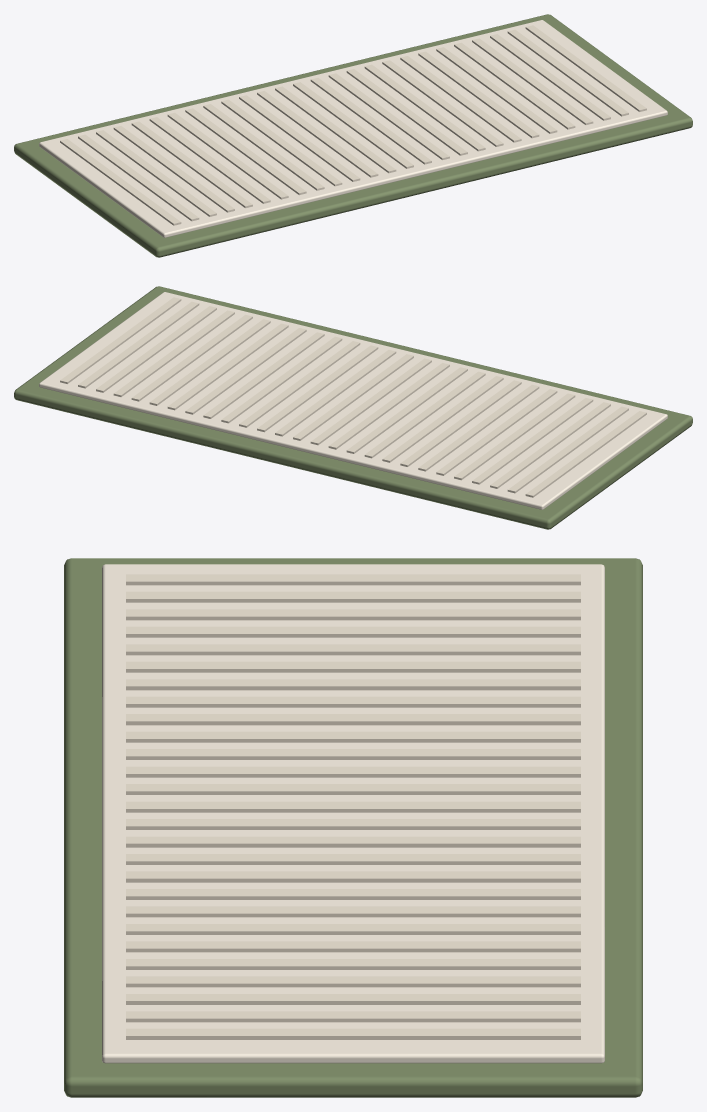
The model's file is bathroom_ref_bath_mat.glb.
The picture shows the model from 3 angles, top to bottom: view 1: azimuth 30°, elevation 25°; view 2: azimuth 150°, elevation 25°; view 3: azimuth 270°, elevation 25°; orthographic projection. The views are drawn at different scales.
Size of the model in its own units: 1.8 by 0.0535 by 0.84.
